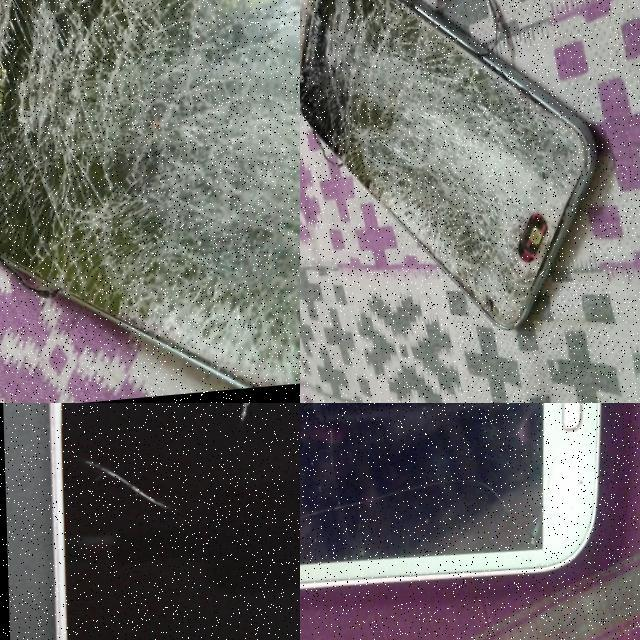scratch: (75, 446, 169, 516)
screen crack: (0, 0, 300, 403), (300, 0, 597, 372), (420, 426, 560, 587)
